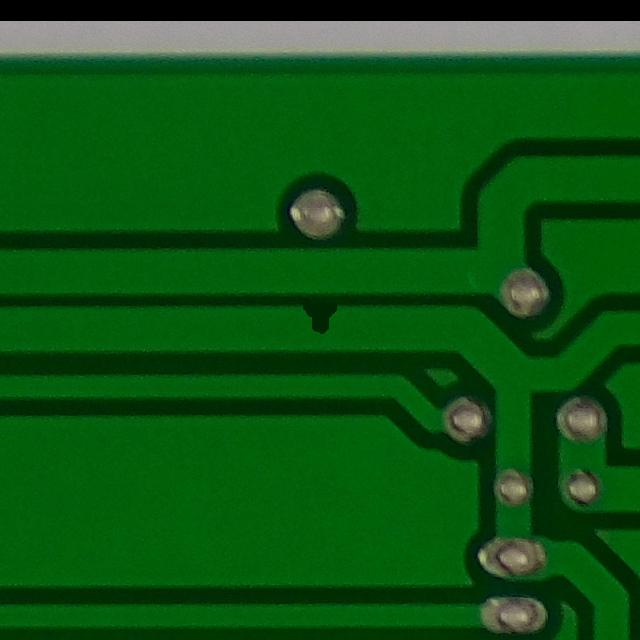mouse_bite: (289, 299, 351, 341)
